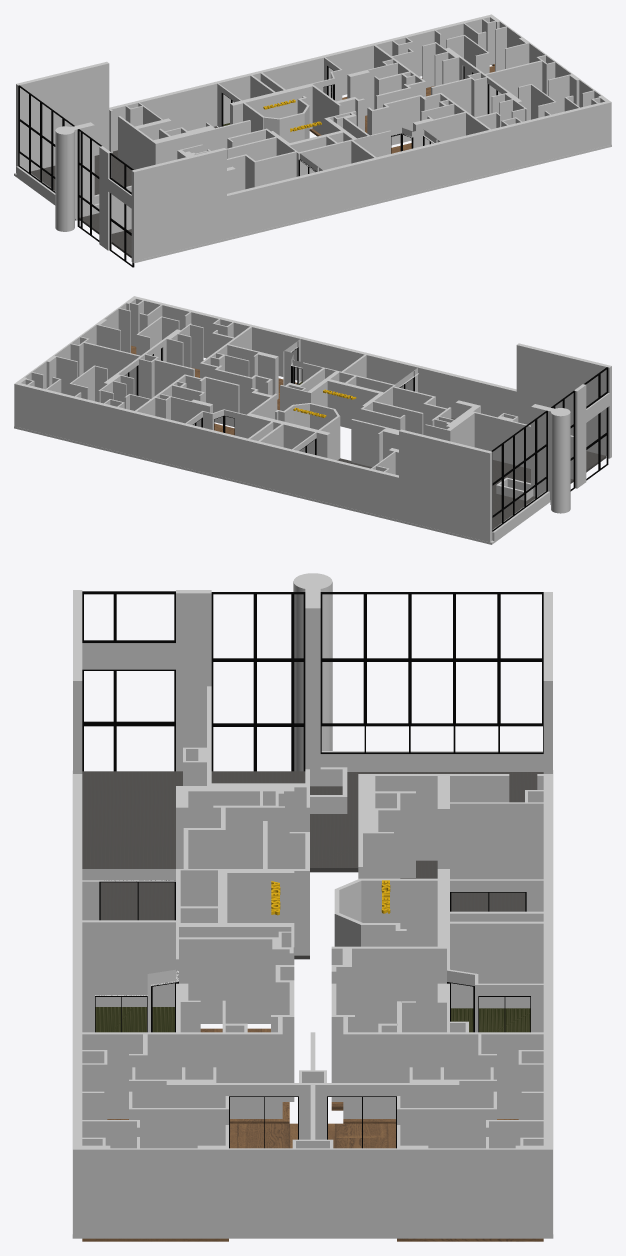
File: PISO-1.glb
The picture shows the model from 3 angles, top to bottom: view 1: azimuth 30°, elevation 25°; view 2: azimuth 150°, elevation 25°; view 3: azimuth 270°, elevation 25°; orthographic projection. The views are drawn at different scales.
Parts seen in each view (by area): view 1: walls-parent; view 2: walls-parent; view 3: walls-parent, tipo-7-parent, tipo-6-parent.
Boxes of the visible parts, x1=… form: walls-parent: x1=14, y1=14, x2=611, y2=267; walls-parent: x1=14, y1=296, x2=611, y2=544; walls-parent: x1=72, y1=573, x2=553, y2=1238; tipo-7-parent: x1=82, y1=1123, x2=297, y2=1241; tipo-6-parent: x1=328, y1=1123, x2=543, y2=1241.
Size of what is drawn, in the model's own units: 36.69 by 6.89 by 15.42.
9 materials, 6 textured.
